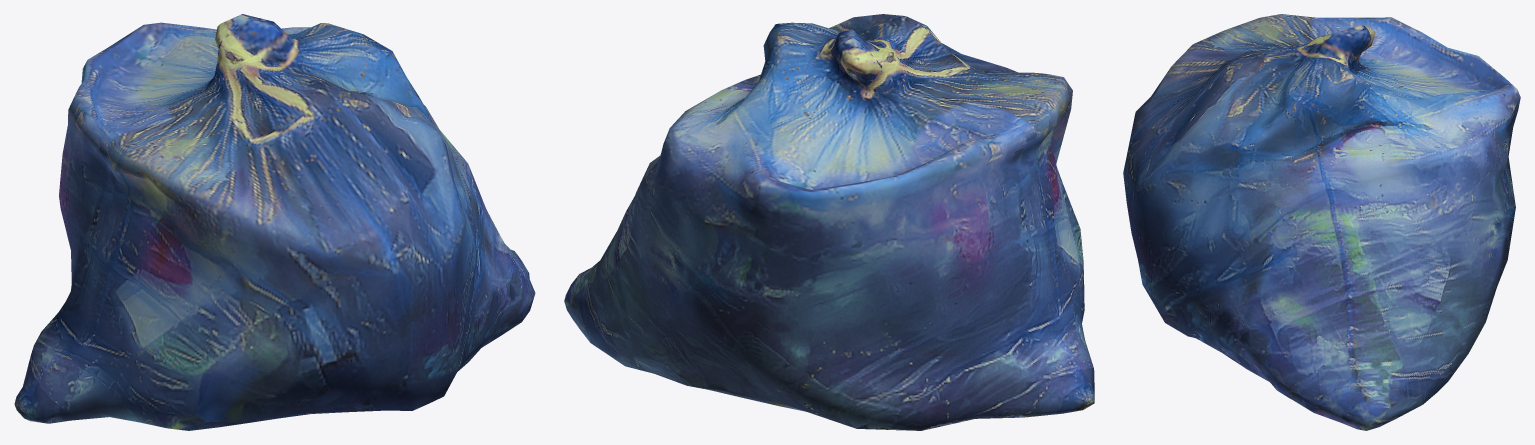
Rendered from Garbage_Bag_02.fbx.
3 renders of one model, left to right at view 1: azimuth 30°, elevation 25°; view 2: azimuth 150°, elevation 25°; view 3: azimuth 270°, elevation 25°, orthographic. The views are drawn at different scales.
Parts seen in each view (by area): view 1: Garbage_Bag_02_LOD0; view 2: Garbage_Bag_02_LOD0; view 3: Garbage_Bag_02_LOD0.
Part boxes in pixels (bbox=[...]): Garbage_Bag_02_LOD0: bbox=[14, 14, 535, 430]; Garbage_Bag_02_LOD0: bbox=[564, 14, 1094, 430]; Garbage_Bag_02_LOD0: bbox=[1123, 14, 1520, 430].
Size of what is drawn, in the model's own units: 64.03 by 41.32 by 49.97.
